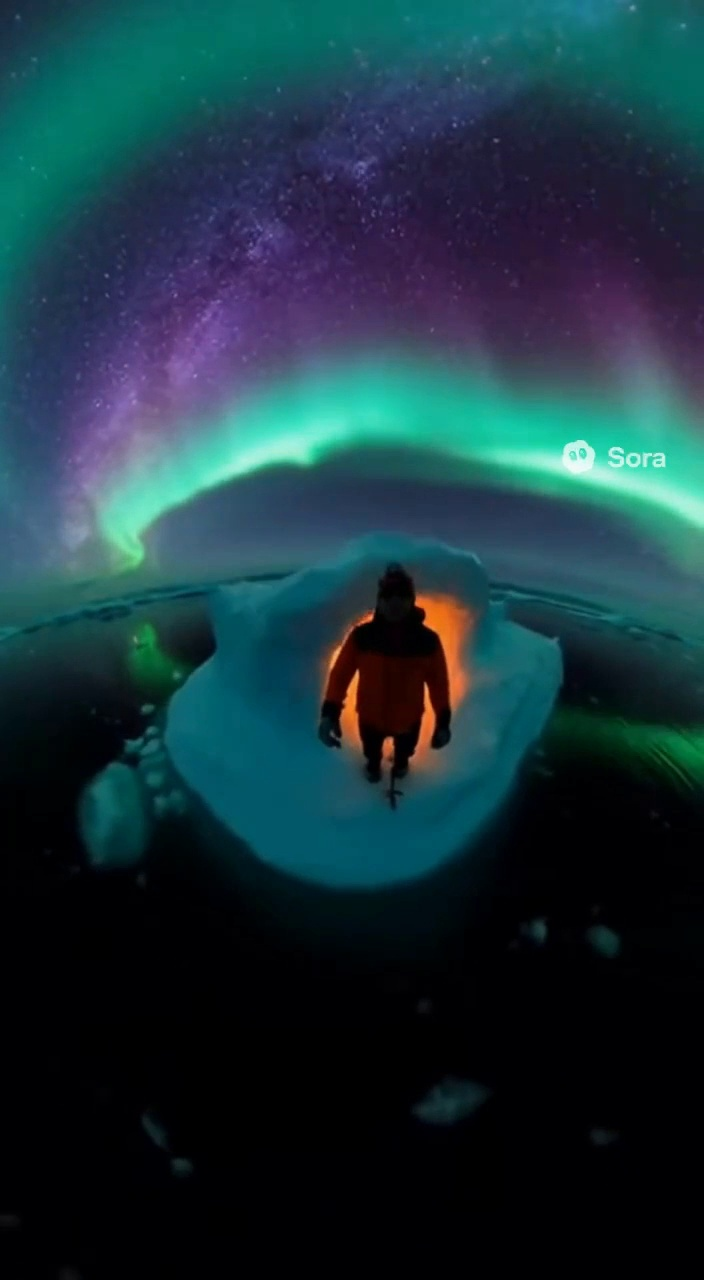watermark: (480, 436, 578, 475)
